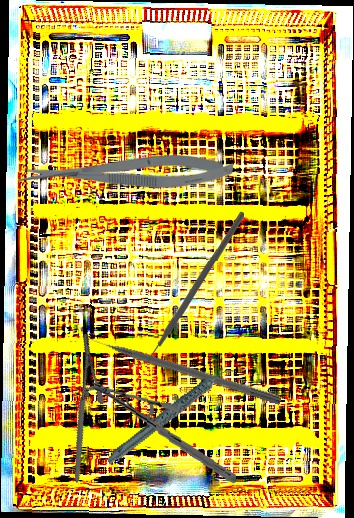Chopper: (131, 209, 245, 369)
Handpiece: (92, 366, 249, 466)
Micro Scissor: (18, 154, 233, 189)
Needle Holder: (84, 379, 244, 485), (28, 331, 134, 484)
Pusher: (81, 330, 283, 406)
